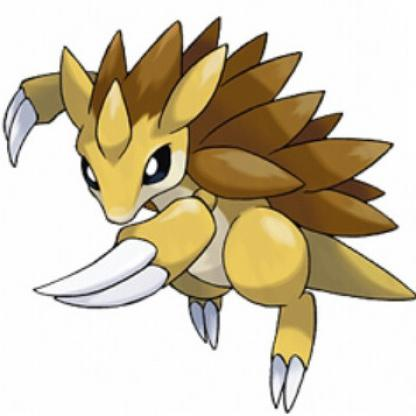Sandslash: (1, 21, 416, 413)
